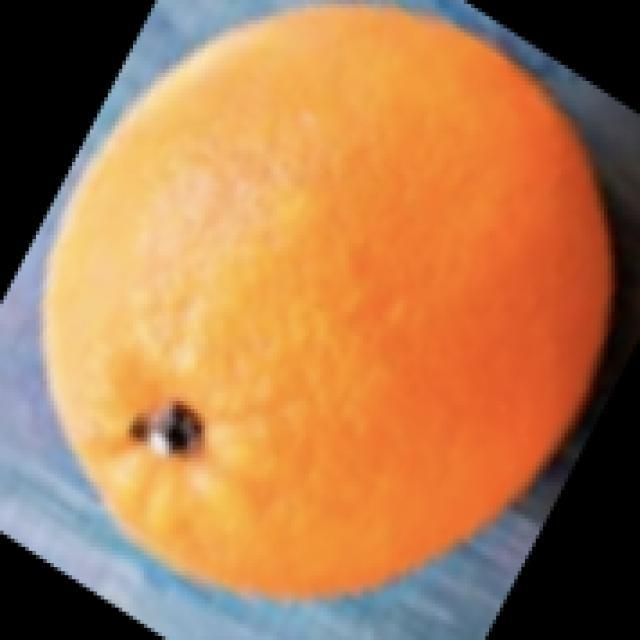Orange: (40, 2, 616, 605)
